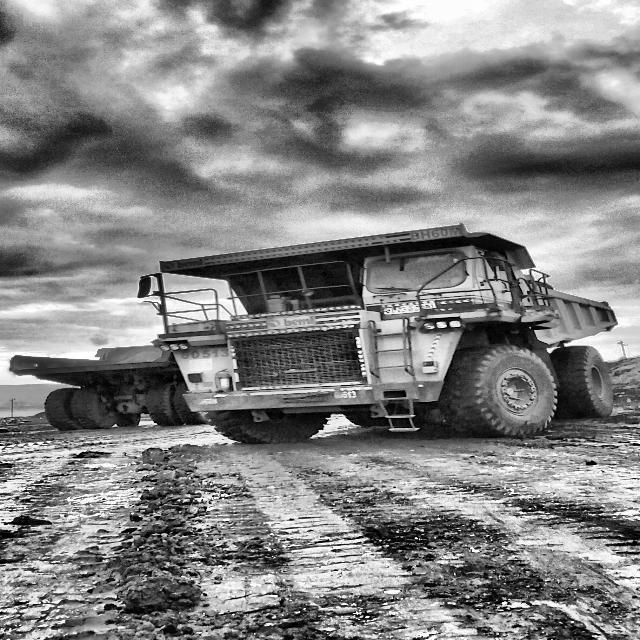dump_truck: (155, 225, 617, 442), (9, 345, 200, 430)
